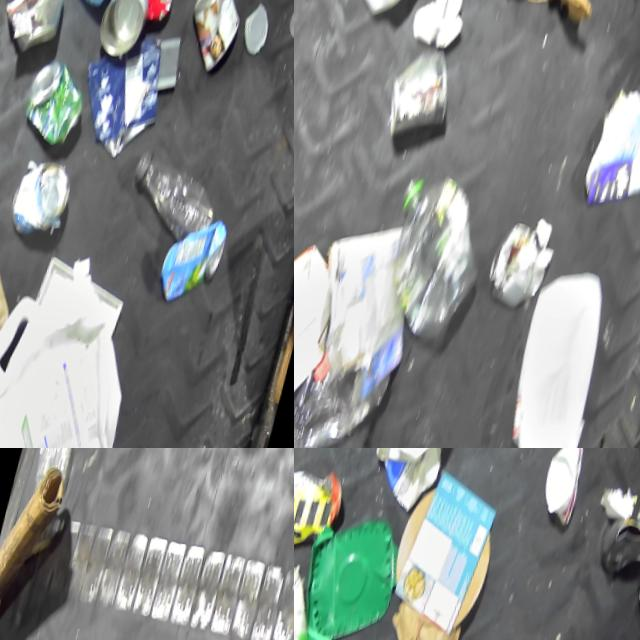can: (386, 37, 463, 142), (20, 50, 96, 148), (294, 463, 350, 550), (182, 0, 247, 66), (294, 551, 334, 640), (3, 0, 67, 45), (99, 0, 154, 44)
milk_jug: (0, 261, 160, 448), (500, 252, 628, 448)
non_white_jug: (294, 226, 355, 448)
plastic_bottle: (374, 163, 504, 348), (128, 144, 222, 232), (26, 448, 95, 501)
